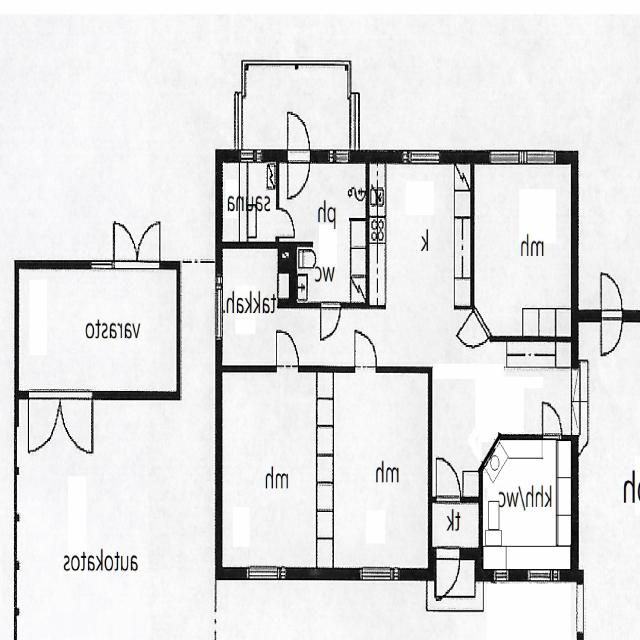door: (28, 391, 61, 454), (61, 391, 92, 454), (457, 307, 491, 364), (287, 151, 310, 203), (287, 112, 310, 164), (437, 548, 460, 599), (436, 456, 461, 502), (137, 222, 160, 270), (114, 222, 137, 270), (276, 329, 298, 373), (602, 311, 622, 358), (602, 275, 622, 322), (355, 331, 376, 373), (543, 402, 562, 440), (322, 304, 341, 342), (276, 208, 296, 236)
